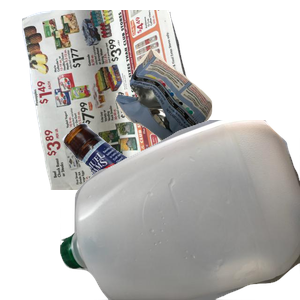glass: (60, 120, 300, 300)
paper: (19, 10, 223, 190)
plastic: (60, 120, 300, 300)
trash: (113, 46, 300, 189)
